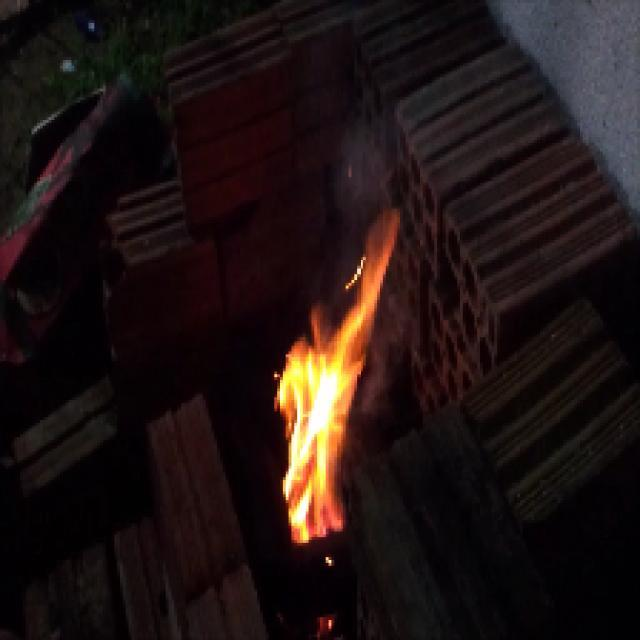Fire: (270, 314, 356, 530)
